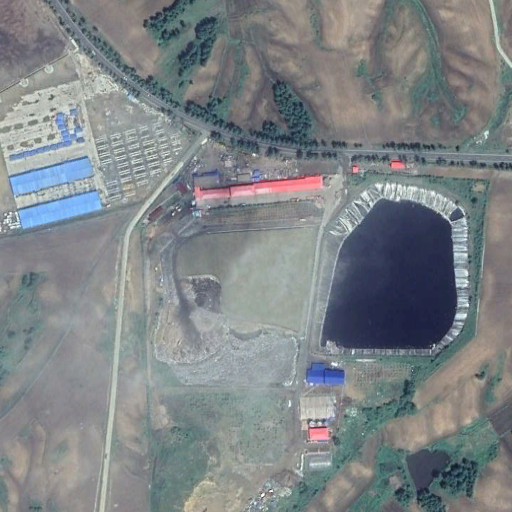lf: (142, 178, 319, 393)
